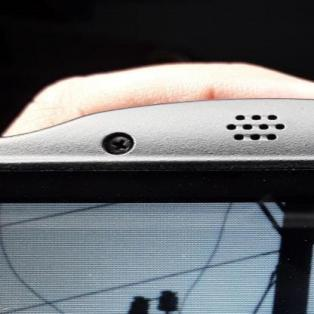Poste: (224, 201, 314, 314)
